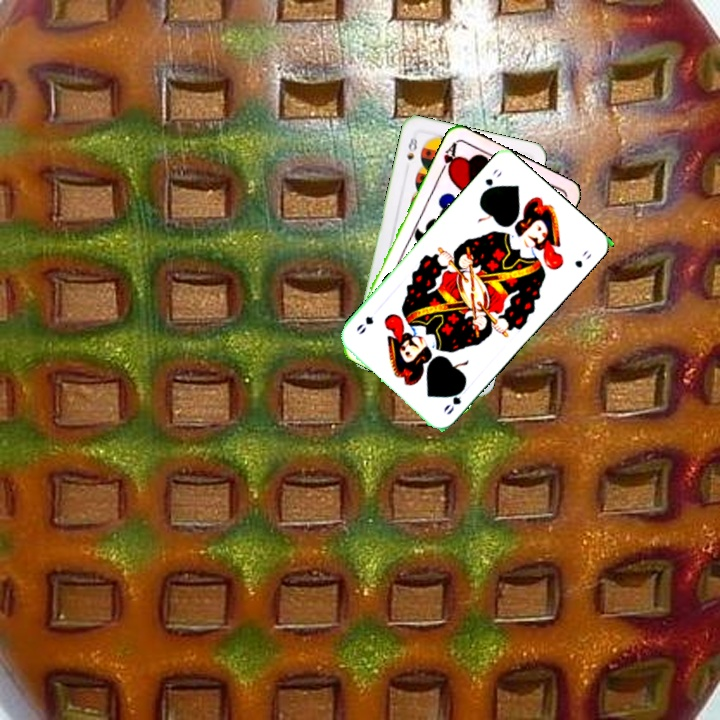GO: (439, 383, 470, 417), (477, 164, 505, 198)
HA: (436, 138, 461, 178)
S8: (403, 130, 420, 162)
